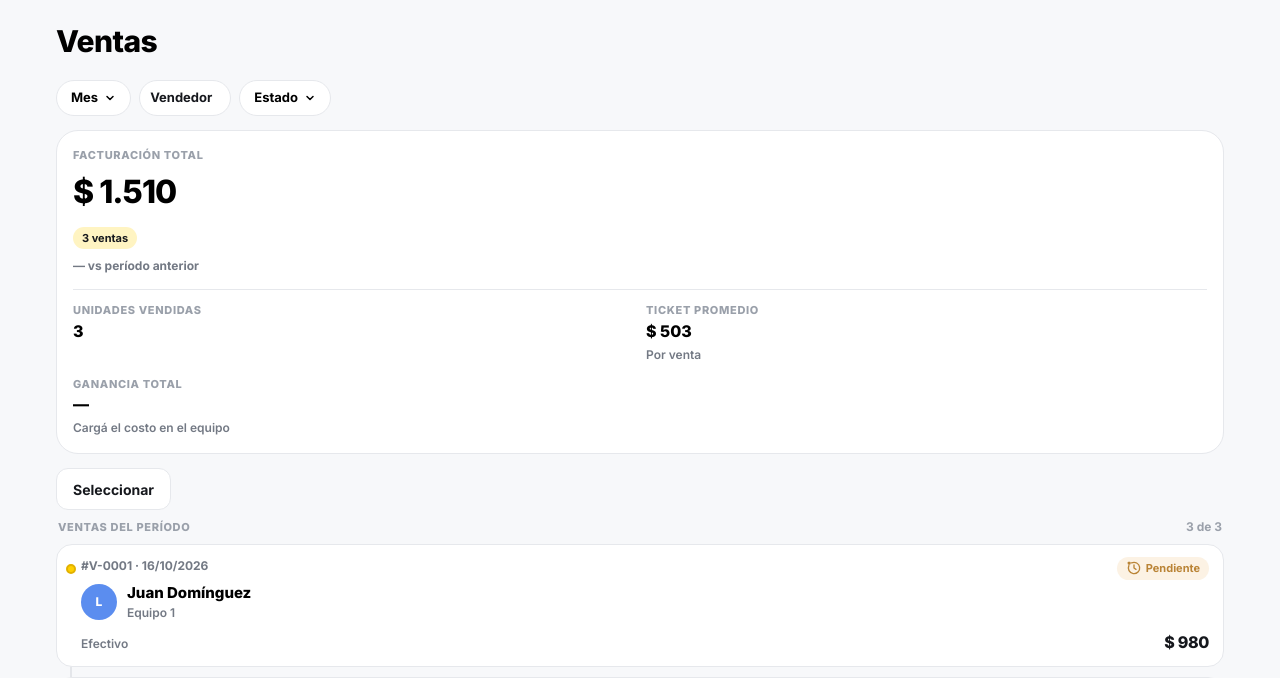
Sales on a phone › filters by seller from the sheet, including sales without a seller
The width and height of the screenshot is (1280, 678).
Click the button with test id "sales-seller-chip" at (181, 98), box 140,81 -> 222,115
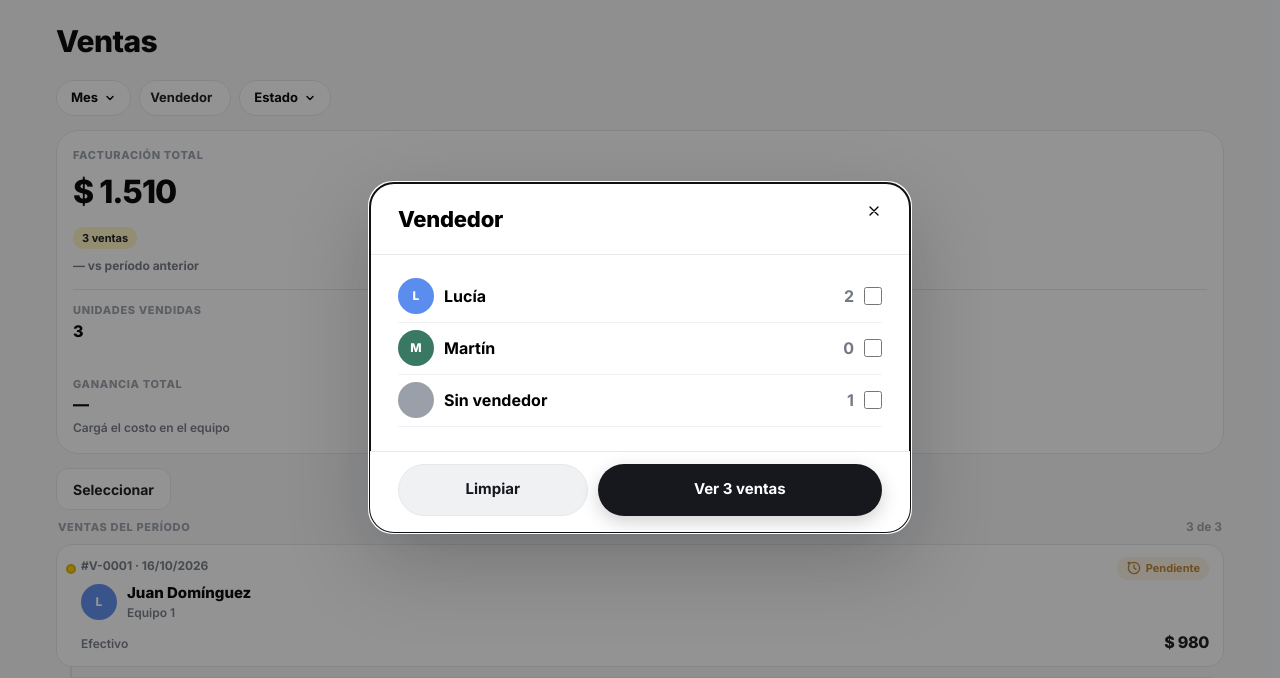
Now the checkbox labelled "L Lucía 2" is not checked
Now the text "2" is shown, box 844,284 -> 854,308
Now the checkbox labelled "Sin vendedor 1" is shown, box 864,391 -> 882,409
Click the checkbox labelled "L Lucía 2" at (873, 296), box 864,287 -> 882,305
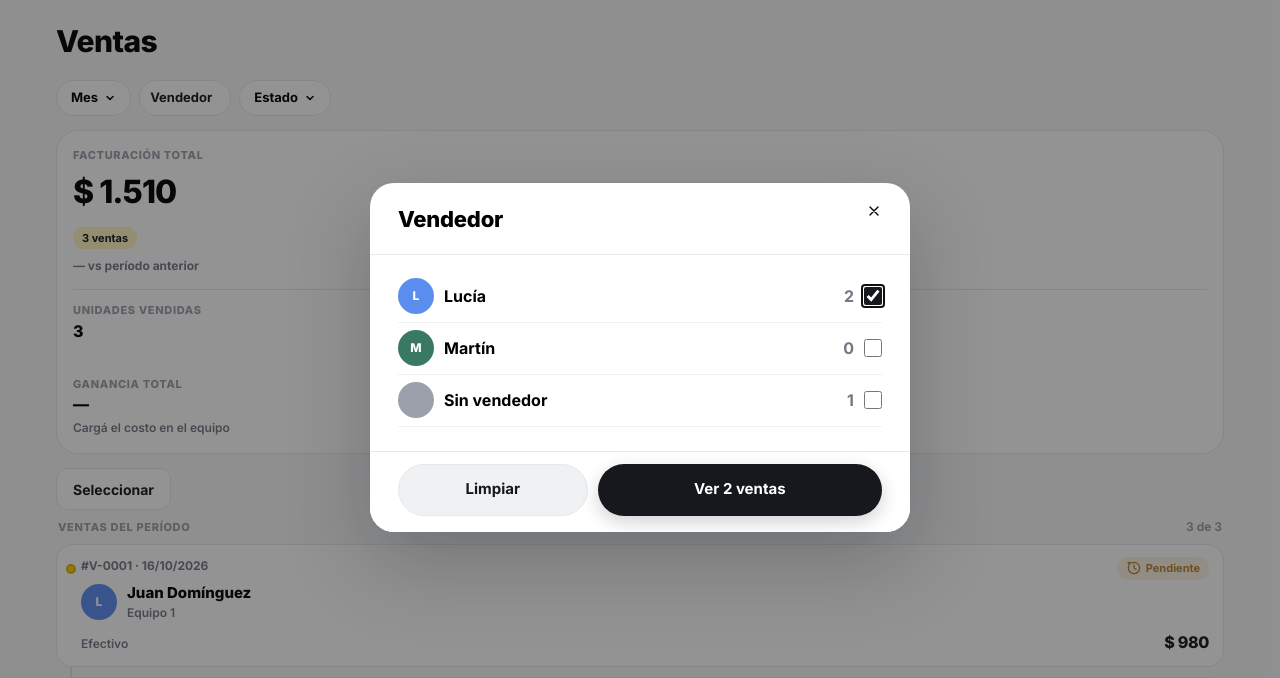
Click the button "Ver 2 ventas" at (740, 490), box 598,464 -> 882,516
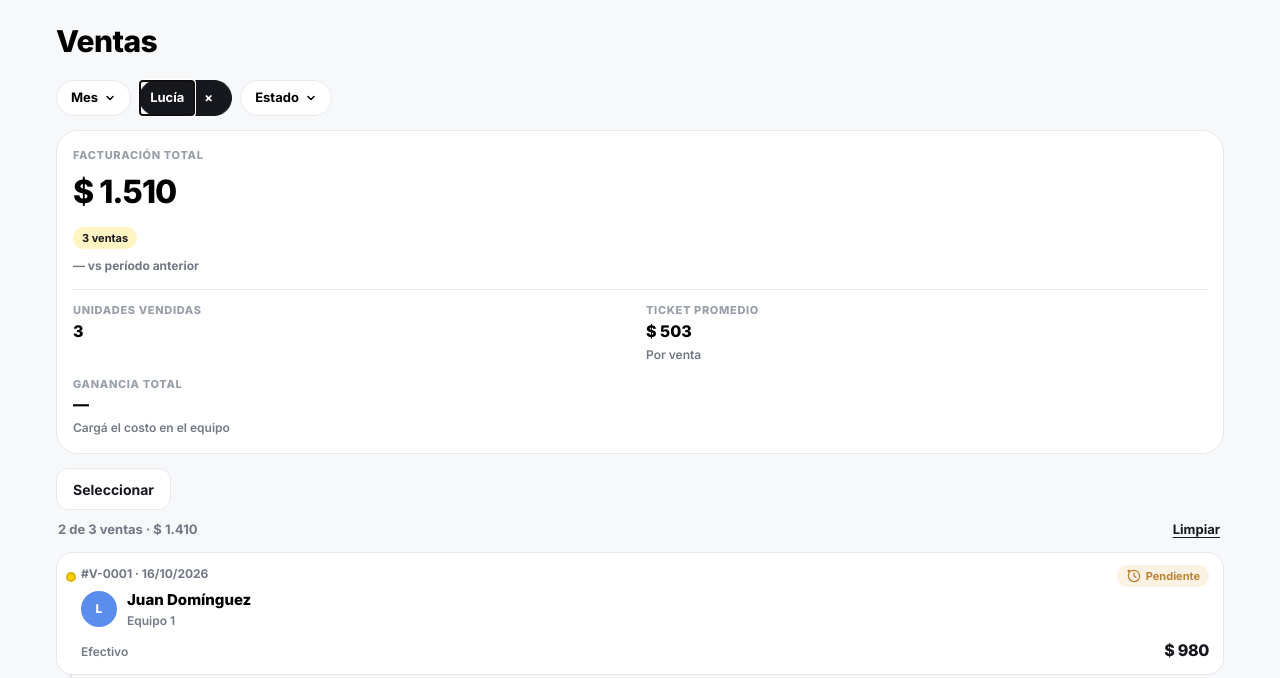
Now the button "Vendedor" is gone
Now the button with test id "sales-seller-chip" reads "Lucía", box 140,81 -> 194,115
Now the element with test id "sales-filter-summary" shows "2 de 3 ventas", box 58,521 -> 198,537
Click the button named "Quitar filtro de vendedor" at (209, 98), box 194,81 -> 223,115
(page scrolled)
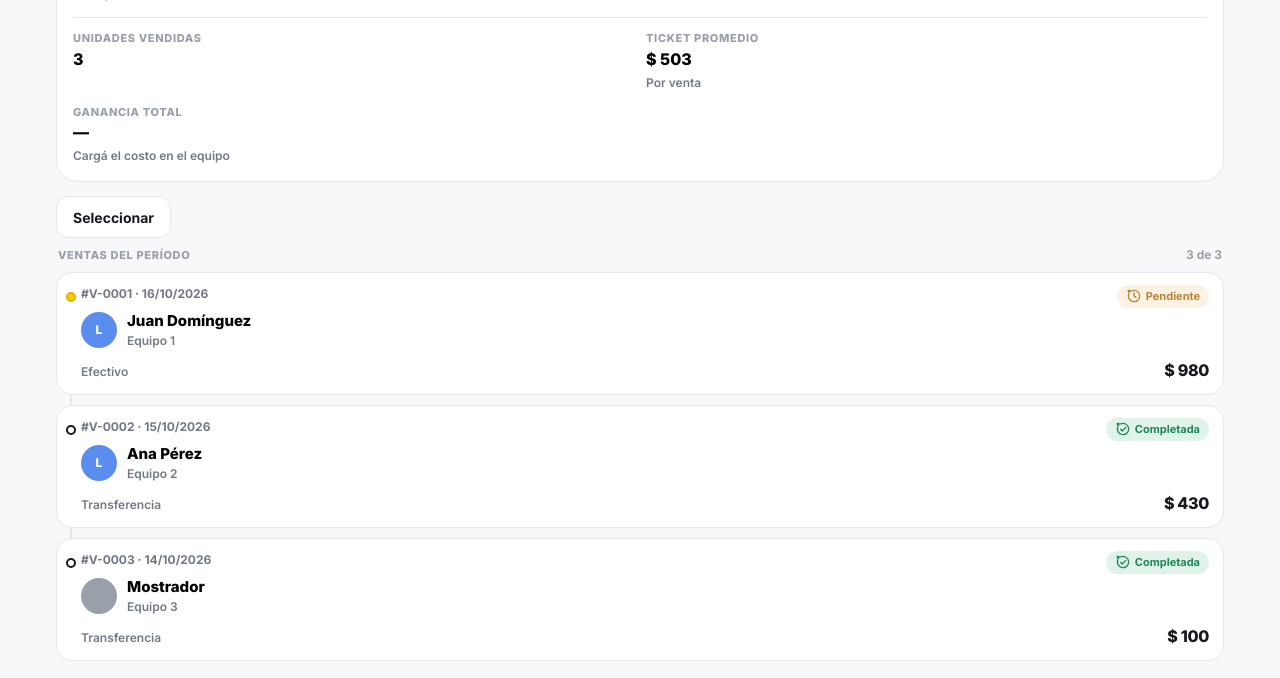
Now the text "Mostrador" is shown, box 127,576 -> 205,598
Now the element with test id "sales-filter-summary" is gone
